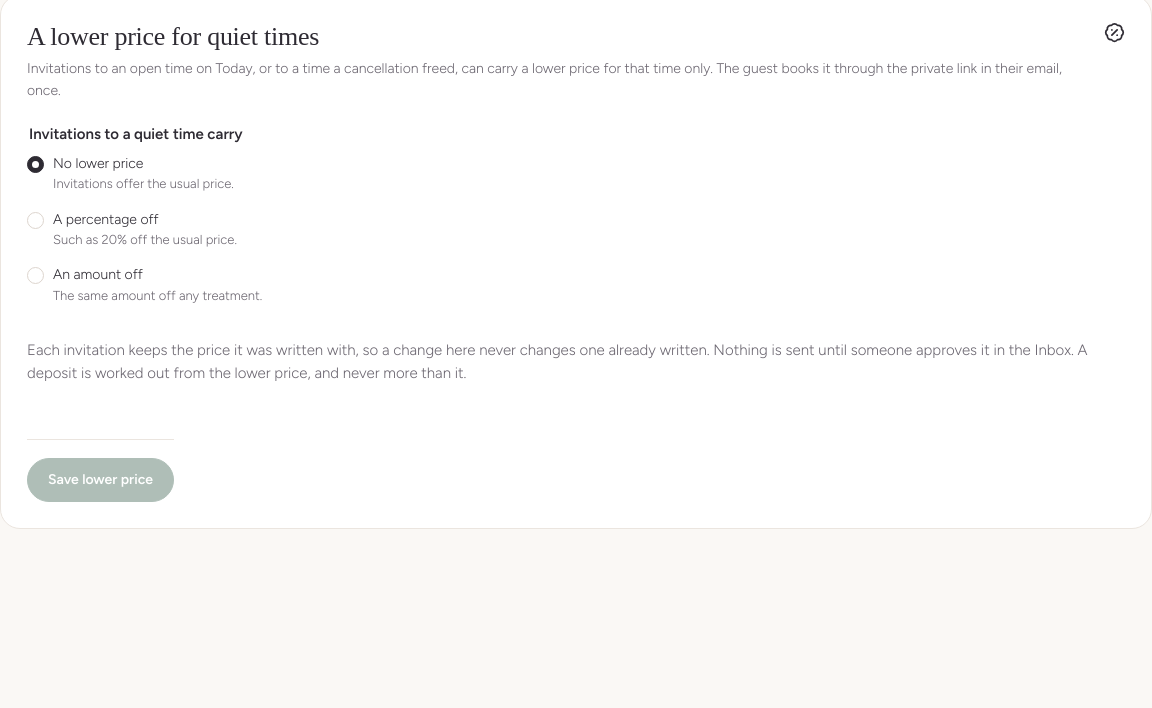
it: refuses an amount it cannot use, before anything is saved
The image size is (1152, 708).
Click the radio button labelled "An amount off The same amount off any treatment.". click: coordinates (36, 276)
box: top-left (27, 267), bottom-right (44, 284)
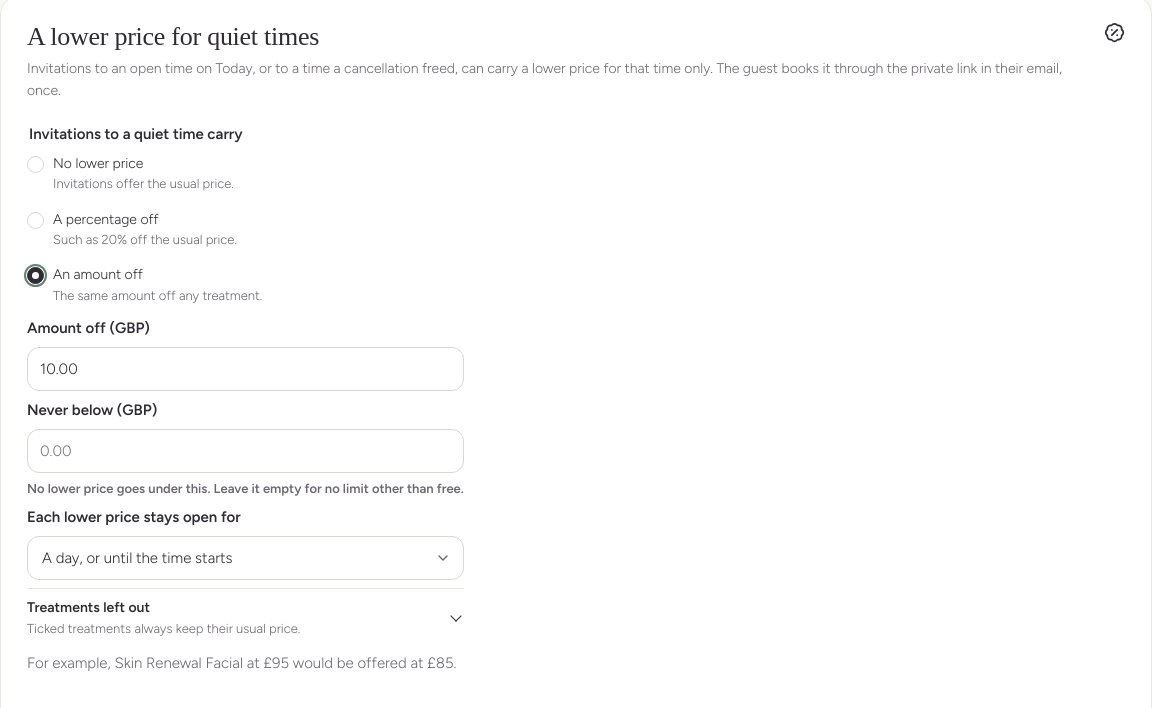
Replace the text in the field labelled "Amount off (GBP)" with "0". click: coordinates (245, 369)
box: top-left (27, 347), bottom-right (464, 391)
(page scrolled)
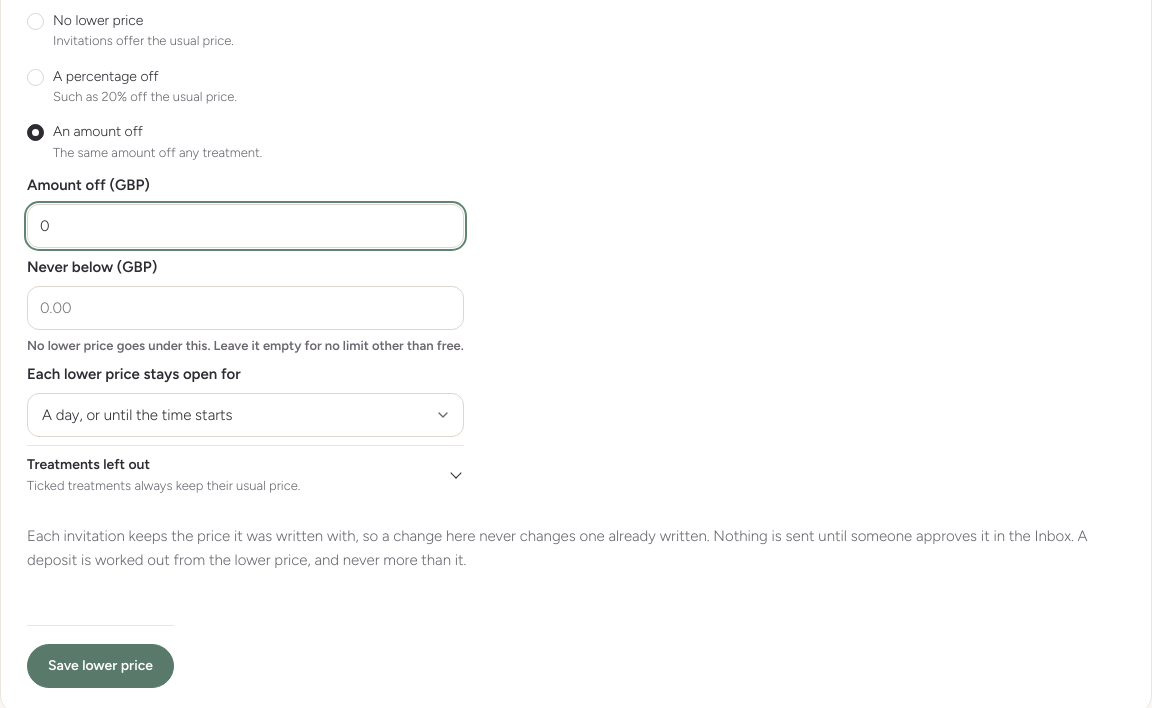
Click the button "Save lower price". click: coordinates (100, 666)
box: top-left (27, 644), bottom-right (174, 688)
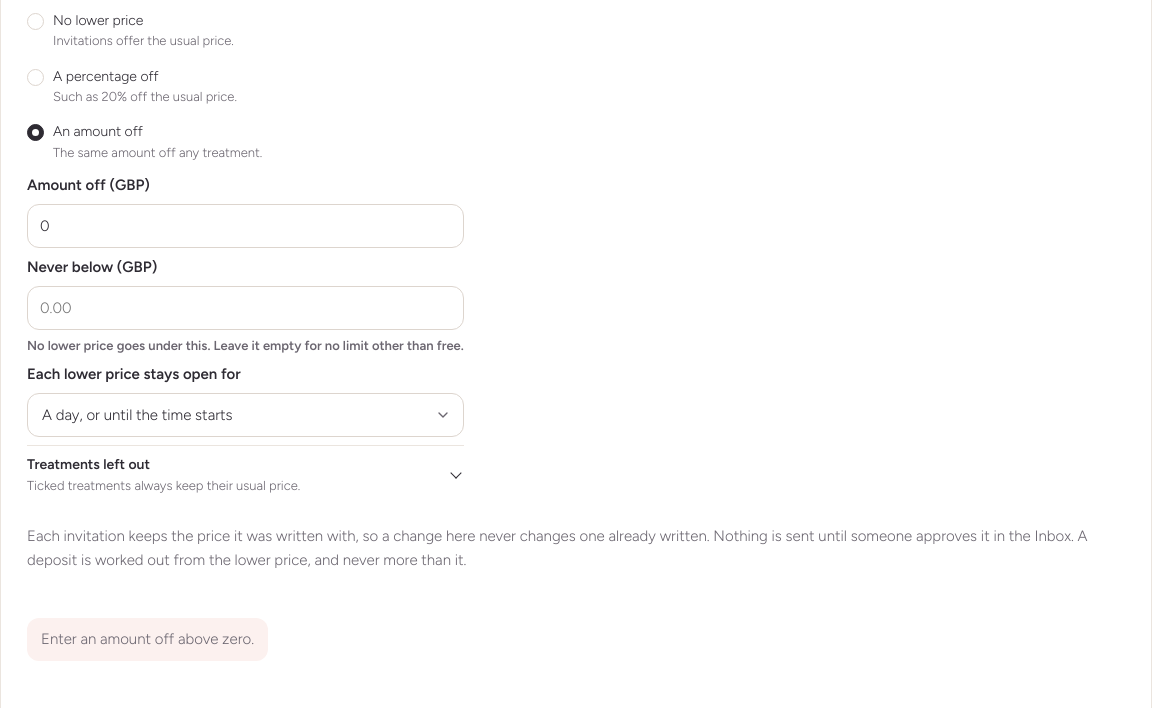
Expected: the message reads "Enter an amount off above zero.", top-left (41, 630), bottom-right (254, 648)
